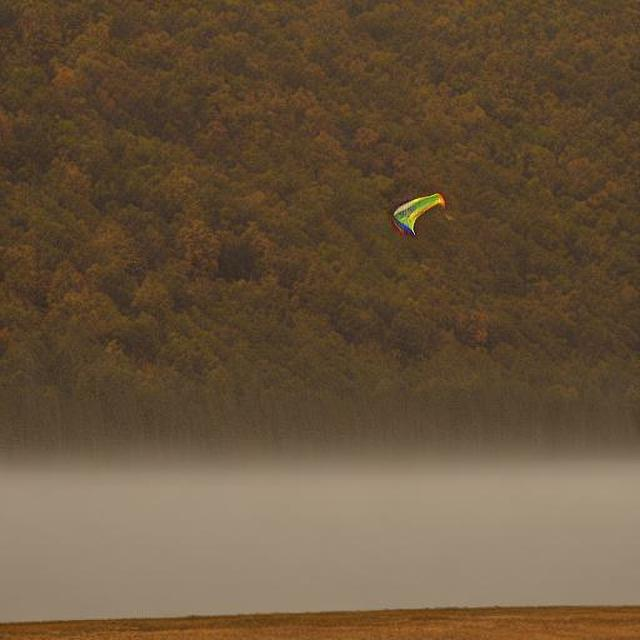floating object: (386, 192, 444, 240)
